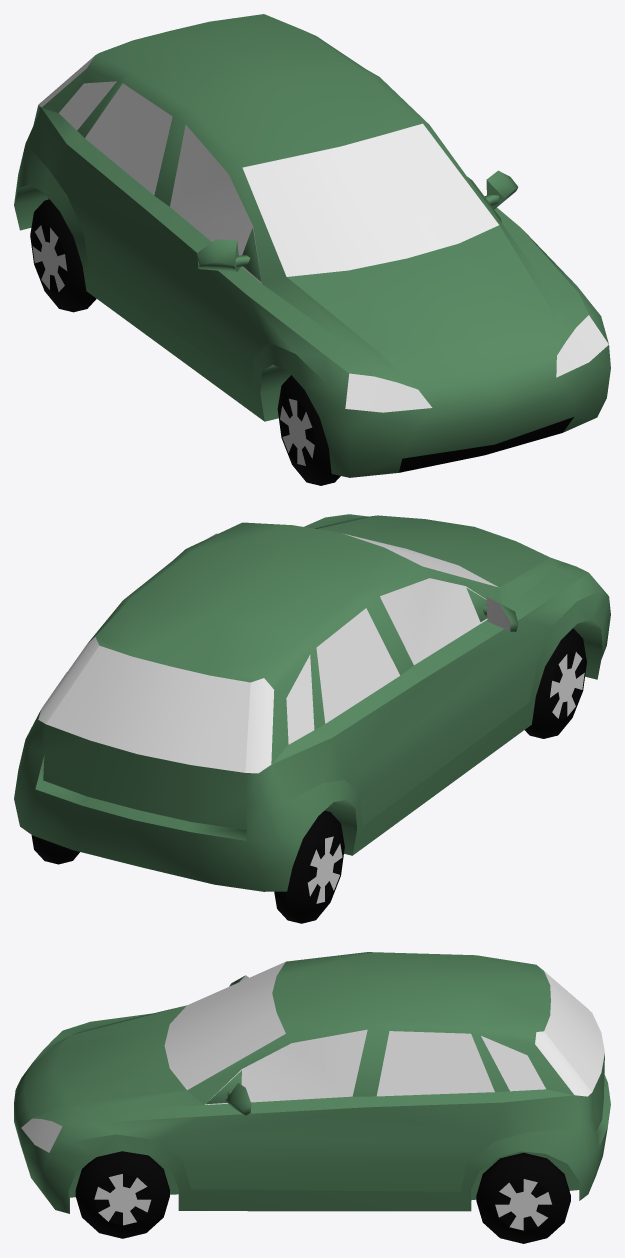
The model's file is машиназеленая.fbx.
3 views of the same model, one above another, from view 1: azimuth 30°, elevation 25°; view 2: azimuth 150°, elevation 25°; view 3: azimuth 270°, elevation 25° (orthographic). The views are drawn at different scales.
Visible parts, largest first — view 1: MESH_CompactBody; view 2: MESH_CompactBody; view 3: MESH_CompactBody.
Boxes of the visible parts, bbox=[...] form: MESH_CompactBody: bbox=[14, 14, 610, 485]; MESH_CompactBody: bbox=[14, 514, 610, 923]; MESH_CompactBody: bbox=[14, 952, 610, 1243].
Size of the model in its own units: 189 by 147 by 375.
